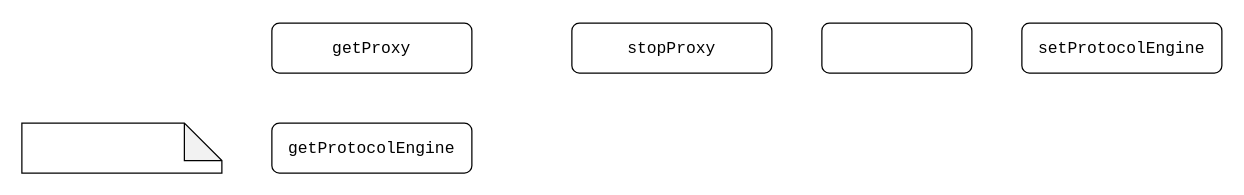
The diagram is 1244 pixels wide and 195 high, and some of its shapes have lost their labels. The shapes that lost their labels are listed below. From the top down, each one's centre as x and y in pixels, then its label:
At point (896, 47): "waitForProxy".
At point (121, 147): "返回RpcEngine进行protocol处理".
